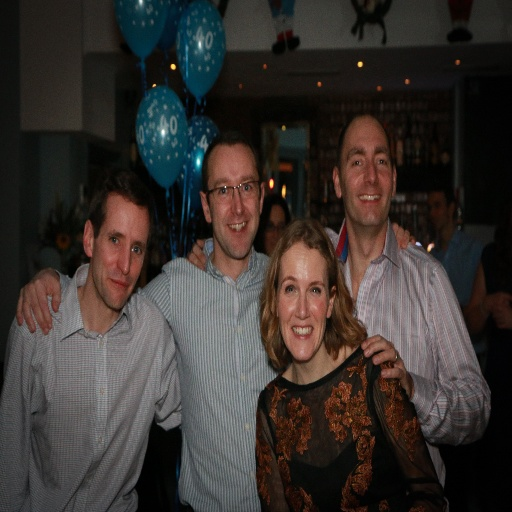hand: (360, 331, 413, 399), (14, 267, 59, 341), (183, 237, 207, 269), (389, 221, 415, 247), (487, 290, 511, 307), (494, 307, 511, 327)
